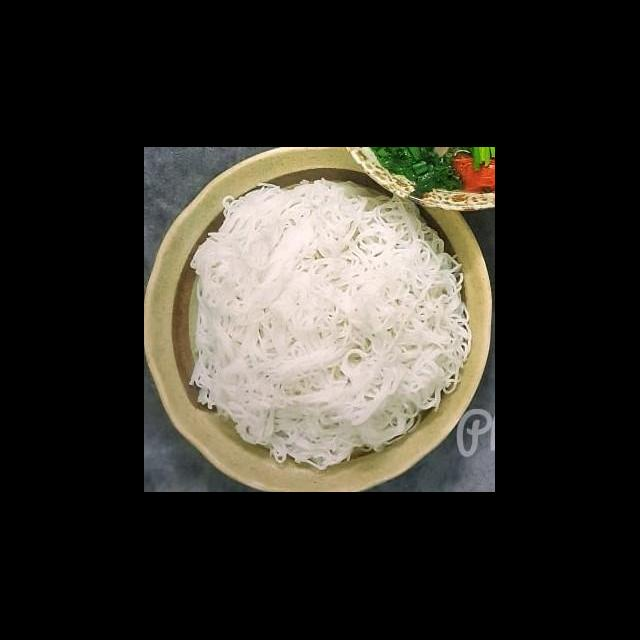bun: (183, 180, 480, 472)
